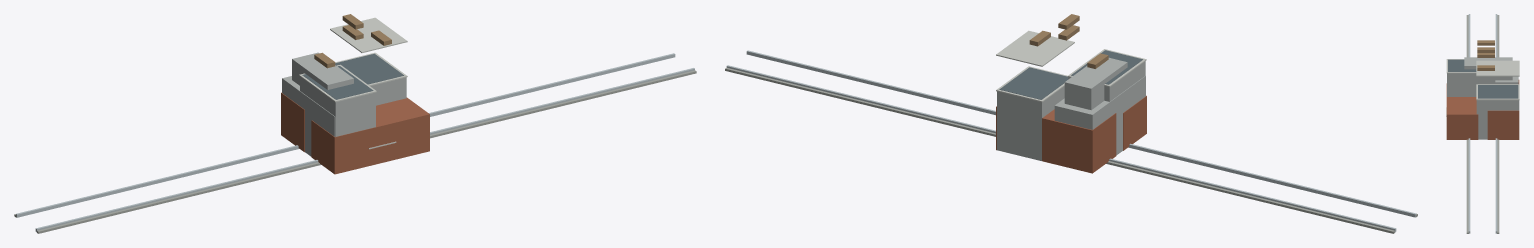
File: Catalog-58.glb
The picture shows the model from 3 angles, left to right: view 1: azimuth 30°, elevation 25°; view 2: azimuth 150°, elevation 25°; view 3: azimuth 270°, elevation 25°; orthographic projection. The views are drawn at different scales.
Parts seen in each view (by area): view 1: Metropolis Brick, Metropolis Concrete (×2), Metropolis Silver, Metropolis Paving, Metropolis Pale Stone (×2), Metropolis Graphite, Metropolis Copper; view 2: Metropolis Concrete (×2), Metropolis Silver, Metropolis Brick, Metropolis Paving, Metropolis Pale Stone (×2), Metropolis Graphite, Metropolis Copper; view 3: Metropolis Brick, Metropolis Concrete (×2), Metropolis Pale Stone (×2), Metropolis Silver, Metropolis Graphite, Metropolis Paving, Metropolis Copper (×2).
Part boxes in pixels (x1,y1,x2,y2): Metropolis Brick: (281,92,429,174); Metropolis Concrete (×2): (282,52,406,156); Metropolis Silver: (16,53,694,231); Metropolis Paving: (14,70,696,233); Metropolis Pale Stone (×2): (299,17,407,149); Metropolis Graphite: (302,53,403,99); Metropolis Copper: (314,25,391,68); Metropolis Concrete (×2): (997,57,1145,160); Metropolis Silver: (726,50,1416,231); Metropolis Brick: (996,95,1146,173); Metropolis Paving: (725,67,1417,233); Metropolis Pale Stone (×2): (996,30,1146,102); Metropolis Graphite: (999,50,1142,99); Metropolis Copper: (1029,25,1108,68); Metropolis Brick: (1446,80,1519,139); Metropolis Concrete (×2): (1447,57,1519,139); Metropolis Pale Stone (×2): (1446,59,1519,116); Metropolis Silver: (1468,14,1497,233); Metropolis Graphite: (1448,59,1518,98); Metropolis Paving: (1466,15,1499,233); Metropolis Copper (×2): (1477,40,1494,70).
Size of the model in its own units: 650 by 117 by 93.
